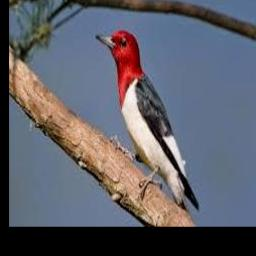Woodpecker: (96, 29, 200, 219)
